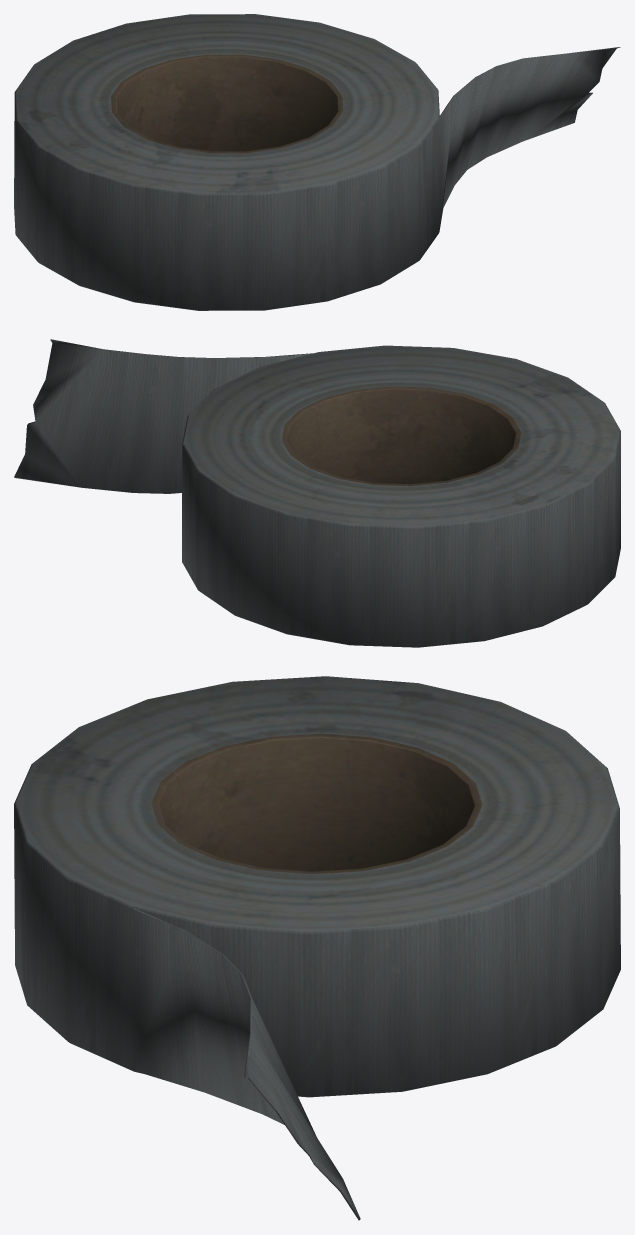
Rendered from Weapons_DuctTapeFullRoll_LOD0.glb.
The picture shows the model from 3 angles, top to bottom: view 1: azimuth 30°, elevation 25°; view 2: azimuth 150°, elevation 25°; view 3: azimuth 270°, elevation 25°; orthographic projection. The views are drawn at different scales.
Parts seen in each view (by area): view 1: Hoodie; view 2: Hoodie; view 3: Hoodie.
Part boxes in pixels (x1,y1,x2,y2): Hoodie: [14, 14, 620, 310]; Hoodie: [14, 339, 620, 647]; Hoodie: [14, 676, 620, 1220].
Size of the model in its own units: 0.2647 by 0.0547 by 0.1778.
1 material, 1 textured.
